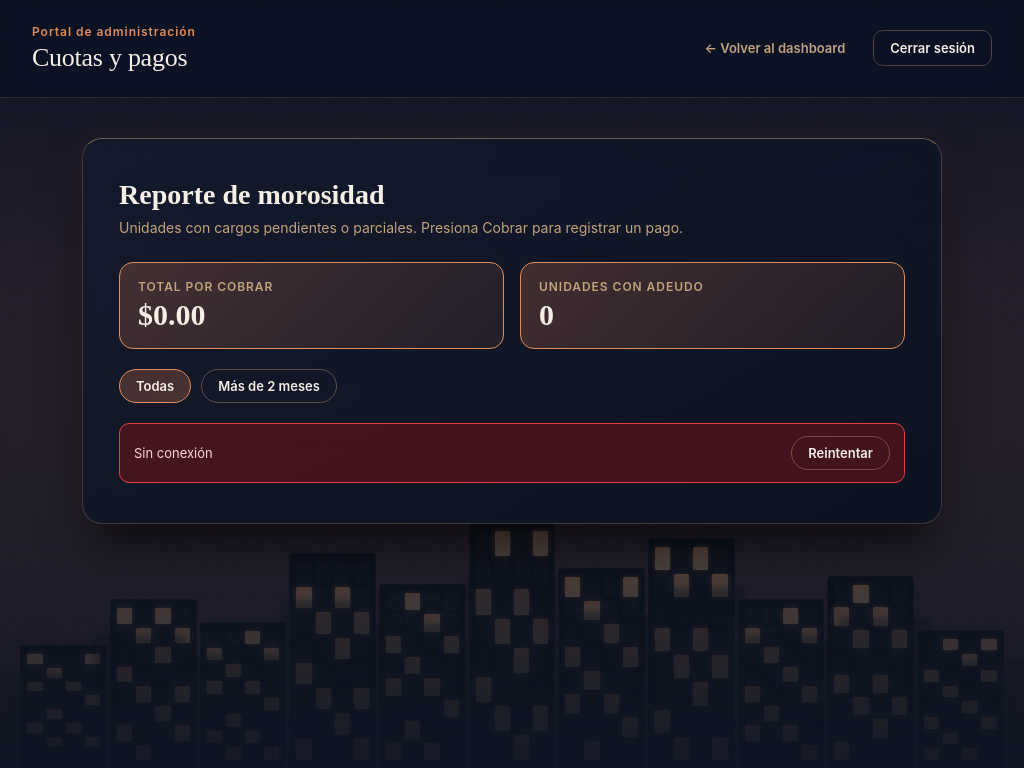
CU-14 MorosidadPage › error y reintento
The width and height of the screenshot is (1024, 768).
Expected: the message shows "Sin conexión", 134,445 -> 213,461
Click the button "Reintentar" at [841, 453], box 791,436 -> 890,470
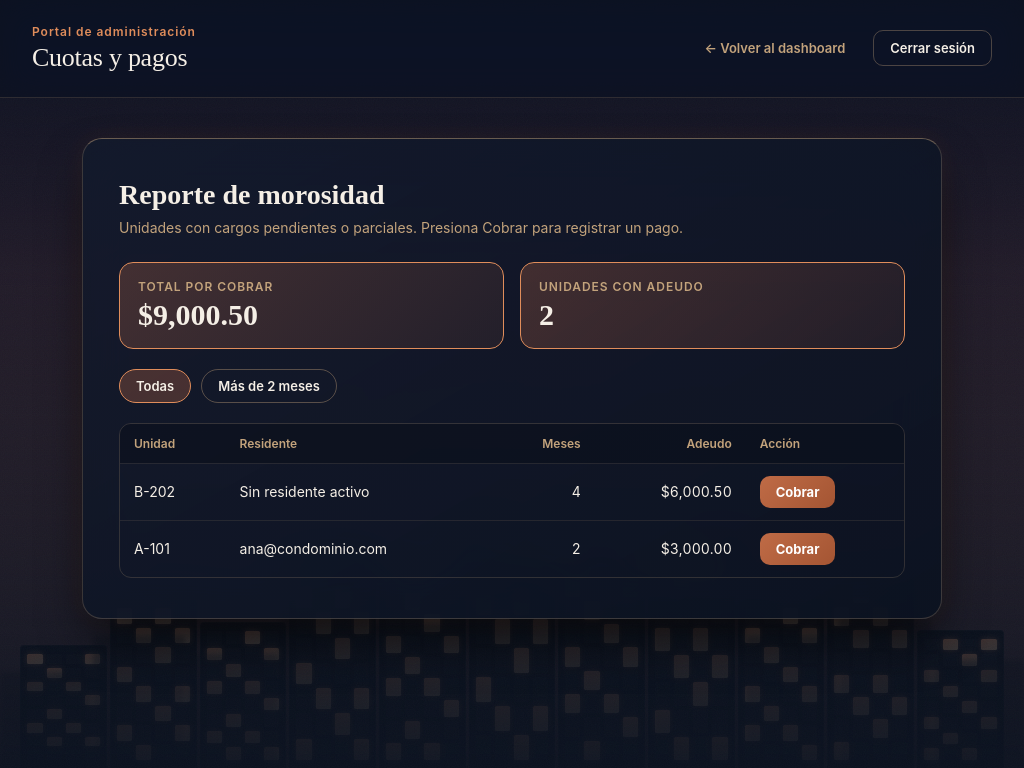
Expected: the table is shown, 120,424 -> 904,577
Expected: the message "Sin conexión Reintentar" is gone
